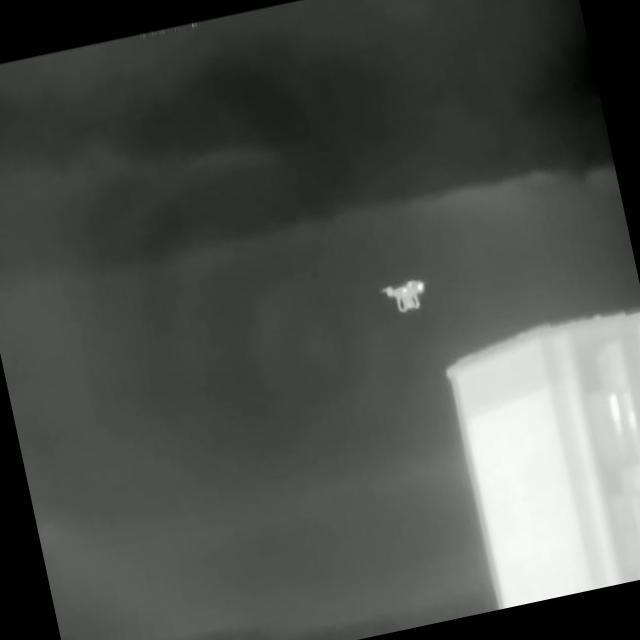DRONE: (375, 275, 436, 313)
